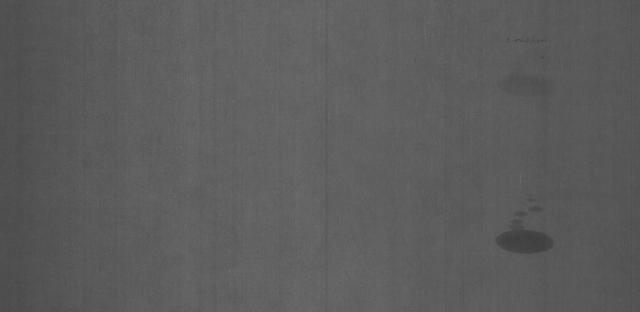oil_spot: (489, 214, 562, 267), (495, 34, 560, 51)
